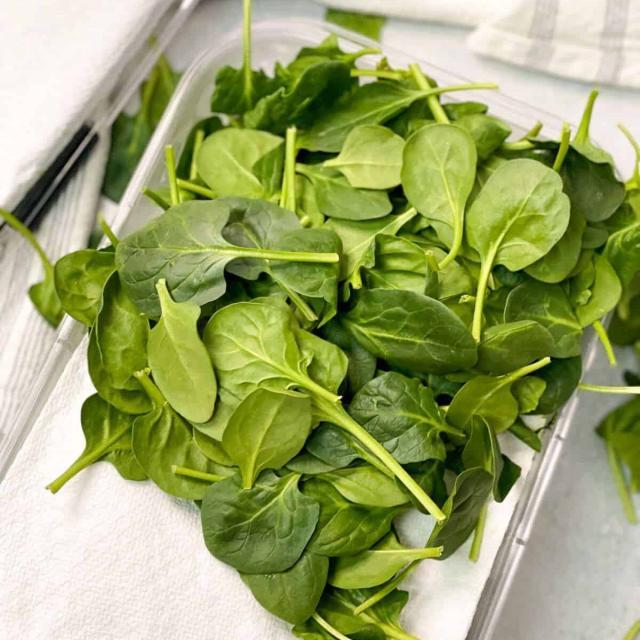Spinach: (42, 36, 633, 633)
